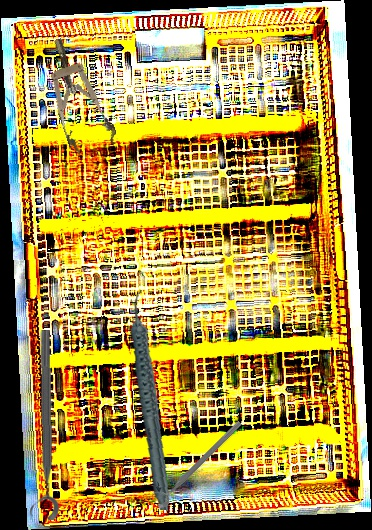Fixation Ring: (148, 413, 245, 511), (24, 330, 60, 521)
Handpiece: (112, 289, 193, 511)
Speculum: (35, 31, 120, 158)
